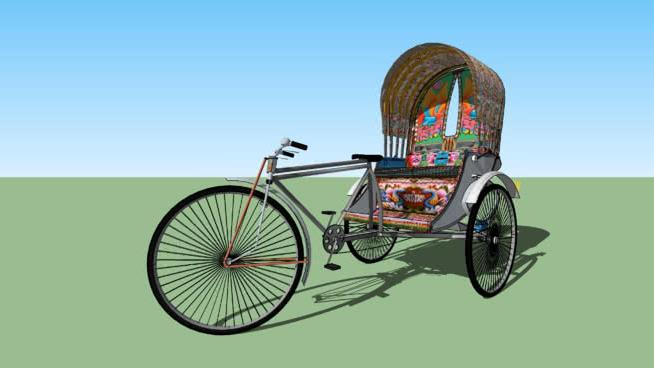Rickshaw: (140, 19, 524, 327)
